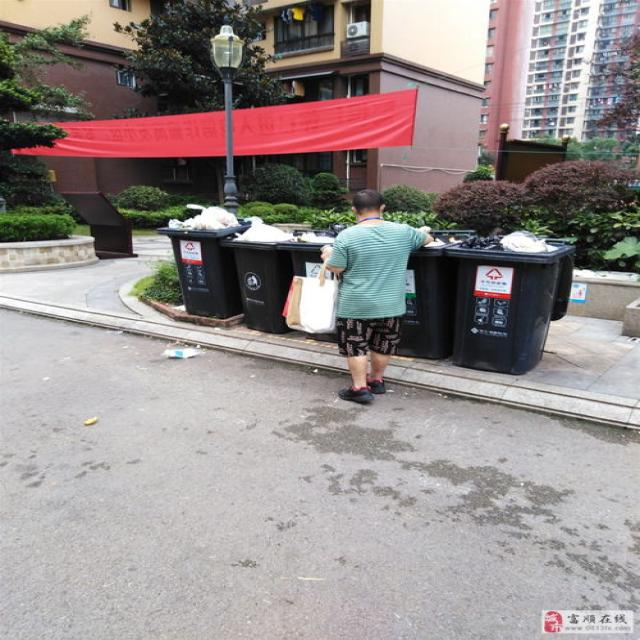overflow: (442, 229, 574, 374), (155, 202, 246, 317), (396, 229, 471, 358), (218, 214, 290, 334)
